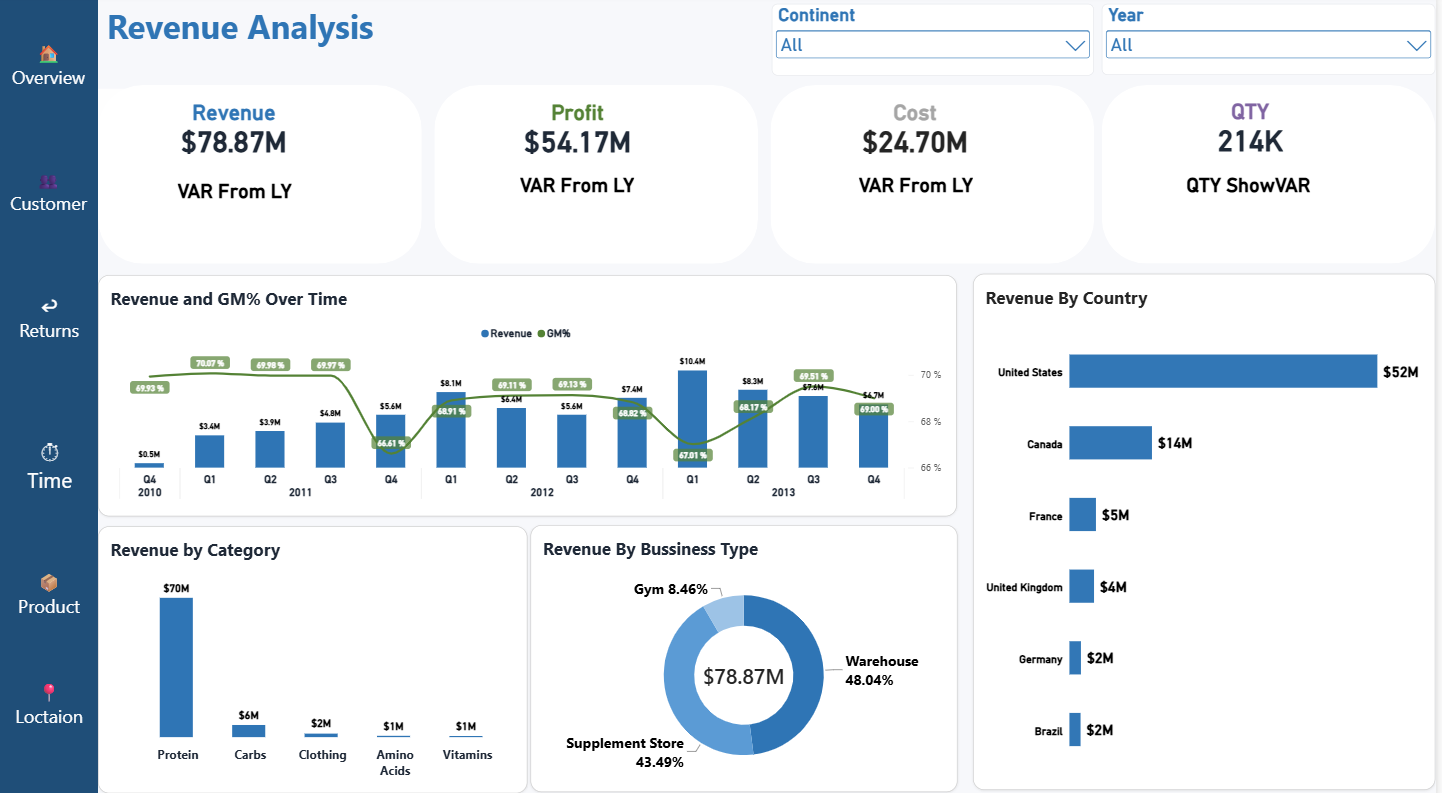

The dashboard page shown, as its layout file describes it:
{"tool":"powerbi","page":{"name":"💰 Revenue Analysis","canvas":[1920,1080],"ordinal":1},"visuals":[{"type":"shape","box":[1.7,0,131.9,1067],"z":0},{"type":"lineStackedColumnComboChart","title":"Revenue and GM% Over Time","fields":{"Category":["Date Table.Year","Date Table.Quarter"],"Y":["Calcultaions.Revenue"],"Y2":["Calcultaions.GM%"]},"box":[133.9,374.6,1147.3,322.1],"z":1000},{"type":"clusteredBarChart","title":"Revenue By Country","fields":{"Category":["Customers.CountryName"],"Y":["Calcultaions.Revenue"]},"box":[1302.4,372.4,617.8,689.6],"z":2000},{"type":"clusteredColumnChart","title":"Revenue by Category","fields":{"Category":["Product.CategoryName"],"Y":["Calcultaions.Revenue"]},"box":[133.9,709.4,573.7,356.5],"z":3000},{"type":"donutChart","title":"Revenue By Bussiness Type","fields":{"Category":["Customers.BusinessType"],"Y":["Calcultaions.Revenue"]},"box":[711.2,707.6,570,356.5],"z":4000},{"type":"slicer","fields":{"Values":["Date Table.Year"]},"box":[1474.4,11.7,445.8,95.2],"z":5000},{"type":"slicer","fields":{"Values":["Customers.Continent"]},"box":[1033.3,10.9,430.7,95.9],"z":6000},{"type":"textbox","box":[144.8,10.9,863.2,68.8],"z":7000},{"type":"shape","box":[133.9,119.4,432.5,238.9],"z":8000},{"type":"cardVisual","fields":{"Data":["Calcultaions.Revenue ShowVar"]},"box":[144.8,231.6,342,99.5],"z":9000},{"type":"cardVisual","fields":{"Data":["Calcultaions.Revenue"]},"box":[133.9,124.9,363.7,114],"z":10000},{"type":"cardVisual","fields":{"Data":["Calcultaions.Revenue Arrow"]},"box":[456,238.9,110.4,90.5],"z":11000},{"type":"shape","box":[582.7,119.4,432.5,238.9],"z":12000},{"type":"shape","box":[1031.5,119.4,432.5,238.9],"z":13000},{"type":"shape","box":[1474.4,120.2,445.8,238.8],"z":14000},{"type":"cardVisual","fields":{"Data":["Calcultaions.Profit"]},"box":[582.7,124.9,383.6,105],"z":15000},{"type":"cardVisual","fields":{"Data":["Calcultaions.Cost"]},"box":[1033.3,124.9,383.6,105],"z":16000},{"type":"cardVisual","fields":{"Data":["Calcultaions.QTY"]},"box":[1480.1,124.3,387.9,105.5],"z":17000},{"type":"cardVisual","fields":{"Data":["Calcultaions.Profit ShowVAR"]},"box":[602.6,224.4,342,99.5],"z":18000},{"type":"cardVisual","fields":{"Data":["Calcultaions.Cost ShowVAR"]},"box":[1055,224.4,342,99.5],"z":19000},{"type":"cardVisual","fields":{"Data":["Calcultaions.QTY ShowVAR"]},"box":[1500.2,224.4,342,99.5],"z":20000},{"type":"cardVisual","fields":{"Data":["Calcultaions.Revenue Arrow"]},"box":[888.5,238.9,110.4,90.5],"z":21000},{"type":"cardVisual","fields":{"Data":["Calcultaions.Revenue Arrow"]},"box":[1344.6,235.3,130.3,95.9],"z":22000},{"type":"cardVisual","fields":{"Data":["Calcultaions.QTY Arrow"]},"box":[1809.7,233.4,83.2,97.7],"z":23000},{"type":"actionButton","title":"🏠Overview","box":[5.4,34.4,124.9,90.5],"z":27000},{"type":"actionButton","title":"🏠Overview","box":[3.6,204.5,128.5,90.5],"z":28000},{"type":"actionButton","title":"🏠Overview","box":[5.4,372.8,126.7,90.5],"z":29000},{"type":"actionButton","title":"🏠Overview","box":[18.1,564.6,101.3,106.8],"z":30000},{"type":"actionButton","title":"🏠Overview","box":[7.2,742,123.1,90.5],"z":31000},{"type":"actionButton","title":"🏠Overview","box":[7.2,888.5,123.1,90.5],"z":32000}]}

Visuals, with their boxes on the page's 1920x1080 design canvas (x1, y1, x2, y2). These are canvas units, not pixel positions in the 1442x793 screenshot, which may show the page scaled, cropped or inside an application window:
shape: x1=2 y1=0 x2=134 y2=1067
"Revenue and GM% Over Time" lineStackedColumnComboChart: x1=134 y1=375 x2=1281 y2=697
"Revenue By Country" clusteredBarChart: x1=1302 y1=372 x2=1920 y2=1062
"Revenue by Category" clusteredColumnChart: x1=134 y1=709 x2=708 y2=1066
"Revenue By Bussiness Type" donutChart: x1=711 y1=708 x2=1281 y2=1064
slicer - Date Table.Year: x1=1474 y1=12 x2=1920 y2=107
slicer - Customers.Continent: x1=1033 y1=11 x2=1464 y2=107
textbox: x1=145 y1=11 x2=1008 y2=80
shape: x1=134 y1=119 x2=566 y2=358
cardVisual - Calcultaions.Revenue ShowVar: x1=145 y1=232 x2=487 y2=331
cardVisual - Calcultaions.Revenue: x1=134 y1=125 x2=498 y2=239
cardVisual - Calcultaions.Revenue Arrow: x1=456 y1=239 x2=566 y2=329
shape: x1=583 y1=119 x2=1015 y2=358
shape: x1=1032 y1=119 x2=1464 y2=358
shape: x1=1474 y1=120 x2=1920 y2=359
cardVisual - Calcultaions.Profit: x1=583 y1=125 x2=966 y2=230
cardVisual - Calcultaions.Cost: x1=1033 y1=125 x2=1417 y2=230
cardVisual - Calcultaions.QTY: x1=1480 y1=124 x2=1868 y2=230
cardVisual - Calcultaions.Profit ShowVAR: x1=603 y1=224 x2=945 y2=324
cardVisual - Calcultaions.Cost ShowVAR: x1=1055 y1=224 x2=1397 y2=324
cardVisual - Calcultaions.QTY ShowVAR: x1=1500 y1=224 x2=1842 y2=324
cardVisual - Calcultaions.Revenue Arrow: x1=888 y1=239 x2=999 y2=329
cardVisual - Calcultaions.Revenue Arrow: x1=1345 y1=235 x2=1475 y2=331
cardVisual - Calcultaions.QTY Arrow: x1=1810 y1=233 x2=1893 y2=331
"🏠Overview" actionButton: x1=5 y1=34 x2=130 y2=125
"🏠Overview" actionButton: x1=4 y1=204 x2=132 y2=295
"🏠Overview" actionButton: x1=5 y1=373 x2=132 y2=463
"🏠Overview" actionButton: x1=18 y1=565 x2=119 y2=671
"🏠Overview" actionButton: x1=7 y1=742 x2=130 y2=832
"🏠Overview" actionButton: x1=7 y1=888 x2=130 y2=979
